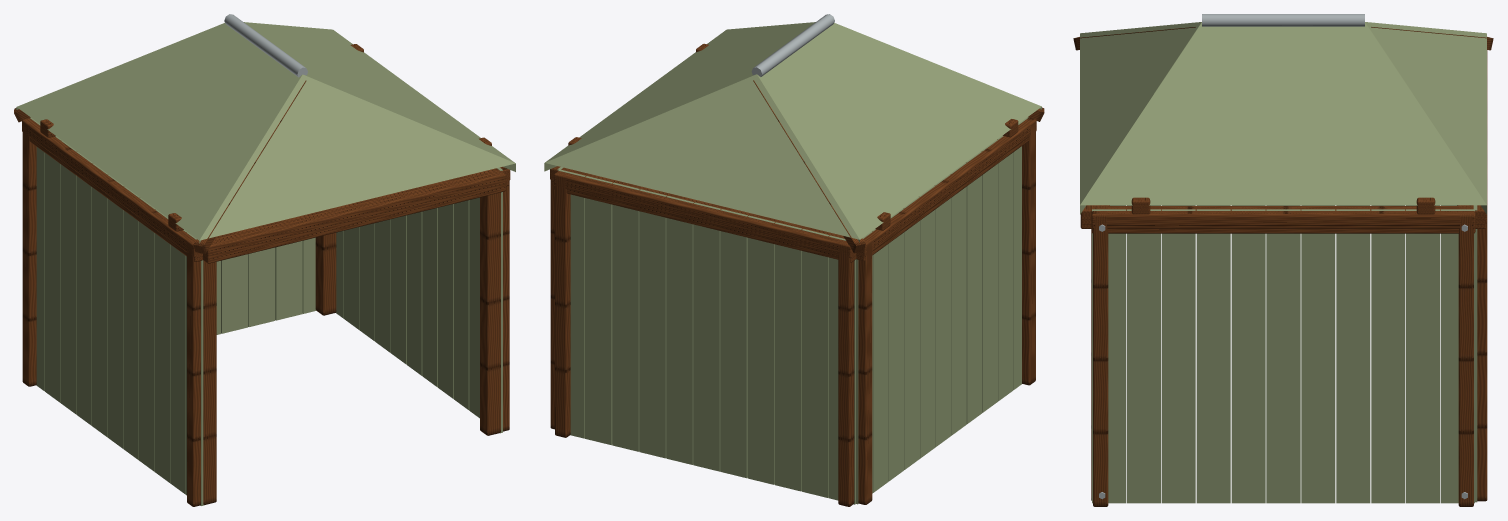
Rendered from prehistoric-survivor-settlement-hide-roof-hut-frame-43217a62__23199.glb.
3 renders of one model, left to right at view 1: azimuth 30°, elevation 25°; view 2: azimuth 150°, elevation 25°; view 3: azimuth 270°, elevation 25°, orthographic. The views are drawn at different scales.
Visible parts, largest first — view 1: hide-roof-hut-frame; view 2: hide-roof-hut-frame; view 3: hide-roof-hut-frame.
Part boxes in pixels (x1,y1,x2,y2): hide-roof-hut-frame: [14, 14, 515, 506]; hide-roof-hut-frame: [544, 14, 1044, 506]; hide-roof-hut-frame: [1073, 14, 1493, 506].
Size of the model in its own units: 2.7 by 2.92 by 2.74.
Materials: 3 (1 with a texture image).
